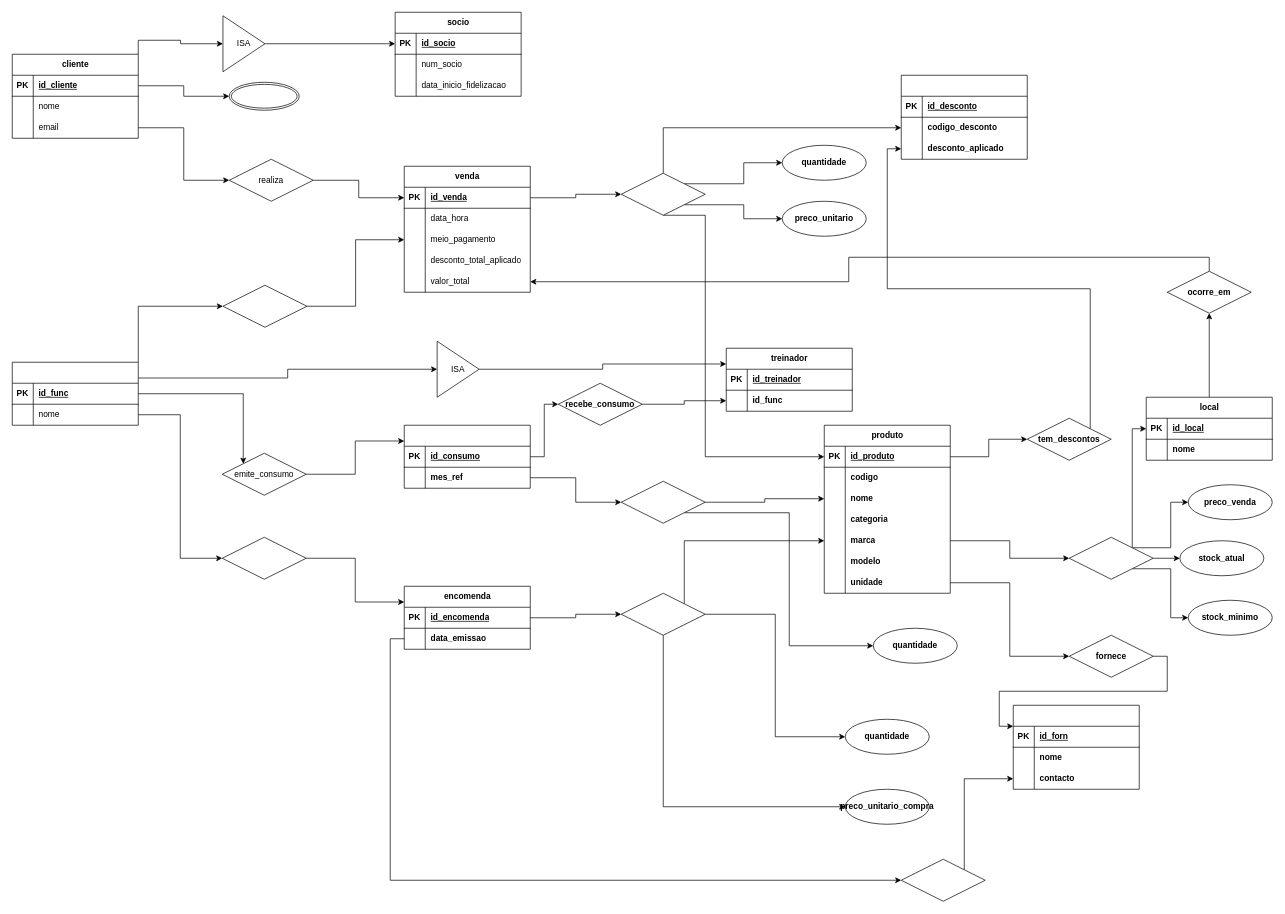
Image size: 1285x914. Some labels were removed from this diagram. The shapes that lost their labels are listed below. From the top down, each one's box as (x1, y1, x2, y2) in pixels, then its label:
(229, 82, 299, 110): telefones
(901, 75, 1027, 159): desconto_socio
(621, 173, 705, 215): inclui_item
(222, 285, 307, 327): regista
(12, 362, 138, 425): funcionario
(404, 425, 530, 488): consumo_interno
(621, 481, 705, 523): consumo_item
(222, 537, 306, 579): emite
(1069, 537, 1153, 579): em_stock
(621, 593, 705, 635): encomenda_item
(1013, 705, 1139, 789): fornecedor
(901, 859, 985, 901): para_fornecedor
